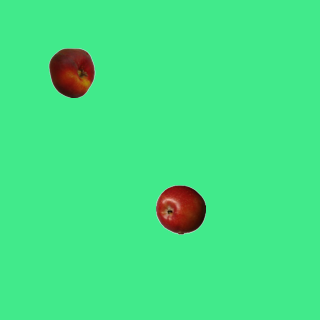Apple Braeburn: (155, 184, 205, 234)
Nectarine Flat: (46, 47, 96, 97)
